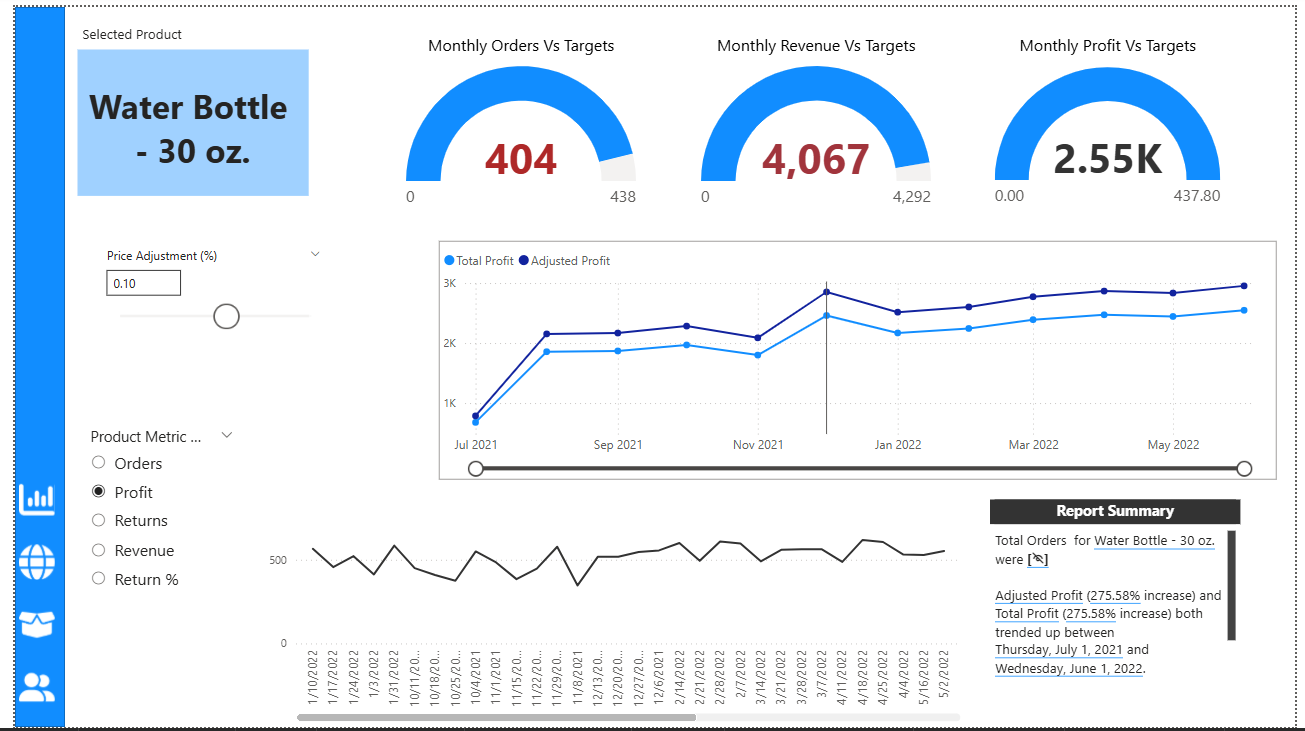

This screenshot's page, from the dashboard's own definition file:
{"tool":"powerbi","page":{"name":"Product Detail","canvas":[1280,720],"ordinal":3},"visuals":[{"type":"shape","box":[0,0,50,720],"z":0},{"type":"actionButton","box":[0,461.2,43.8,62.5],"z":0,"group":"g1"},{"type":"gauge","title":"Monthly Orders Vs Targets","fields":{"Y":["Measure Table.Total Orders"],"MaxValue":["Measure Table.Order Target"]},"box":[386.7,26.7,240,191.1],"z":1000},{"type":"actionButton","box":[0,523.7,43.8,62.5],"z":1000,"group":"g1"},{"type":"gauge","title":"Monthly Revenue Vs Targets","fields":{"Y":["Measure Table.Total Revenue"],"MaxValue":["Measure Table.Revenue Target"]},"box":[681.1,26.7,240,191.1],"z":2000},{"type":"actionButton","box":[0,586.2,43.8,62.5],"z":2000,"group":"g1"},{"type":"gauge","title":"Monthly Profit Vs Targets","fields":{"Y":["Measure Table.Total Profit"],"MaxValue":["Measure Table.Profit Target"]},"box":[975.6,26.7,235.6,191.1],"z":3000},{"type":"actionButton","box":[0,648.7,43.8,62.5],"z":3000,"group":"g1"},{"type":"lineChart","title":"Profit Trending ","fields":{"Category":["Calendar Lookup.Date","Calendar Lookup.Year","Calendar Lookup.Start of Month","Calendar Lookup.Start of Week"],"Y":["Measure Table.Total Profit","Measure Table.Adjusted Profit"]},"box":[424.3,233.7,836.6,238.5],"z":4000},{"type":"areaChart","title":"Returns Trending ","fields":{"Y":["Measure Table.Total Profit"],"Category":["Calendar Lookup.Date","Calendar Lookup.Year","Calendar Lookup.Start of Week","Calendar Lookup.Start of Month"]},"box":[249.3,489.3,701.9,230.9],"z":5000},{"type":"card","fields":{"Values":["Min(Product Lookup.ProductName)"]},"box":[62.2,42.2,231.1,146.7],"z":6000},{"type":"textbox","box":[62.2,12.2,160,30],"z":7000},{"type":"group","id":"g1","title":"Navigation buttons ","box":[0,461.2,43.8,250],"z":8000},{"type":"slicer","fields":{"Values":["Price Adjustment (%).Price Adjustment (%)"]},"box":[79.3,235.5,238.9,124.1],"z":9000},{"type":"slicer","fields":{"Values":["Product Metric Selection.Product Metric Selection"]},"box":[62,413.5,167.7,204.5],"z":10000},{"type":"textbox","title":"Report Summary","box":[975.2,492.8,250.4,202.2],"z":11000}]}

Visuals, with their boxes on the page's 1280x720 design canvas (x1, y1, x2, y2). These are canvas units, not pixel positions in the 1305x731 screenshot, which may show the page scaled, cropped or inside an application window:
shape: <bbox>0, 0, 50, 720</bbox>
actionButton: <bbox>0, 461, 44, 524</bbox>
"Monthly Orders Vs Targets" gauge: <bbox>387, 27, 627, 218</bbox>
actionButton: <bbox>0, 524, 44, 586</bbox>
"Monthly Revenue Vs Targets" gauge: <bbox>681, 27, 921, 218</bbox>
actionButton: <bbox>0, 586, 44, 649</bbox>
"Monthly Profit Vs Targets" gauge: <bbox>976, 27, 1211, 218</bbox>
actionButton: <bbox>0, 649, 44, 711</bbox>
"Profit Trending " lineChart: <bbox>424, 234, 1261, 472</bbox>
"Returns Trending " areaChart: <bbox>249, 489, 951, 720</bbox>
card - Min(Product Lookup.ProductName): <bbox>62, 42, 293, 189</bbox>
textbox: <bbox>62, 12, 222, 42</bbox>
"Navigation buttons " group: <bbox>0, 461, 44, 711</bbox>
slicer - Price Adjustment (%).Price Adjustment (%): <bbox>79, 236, 318, 360</bbox>
slicer - Product Metric Selection.Product Metric Selection: <bbox>62, 414, 230, 618</bbox>
"Report Summary" textbox: <bbox>975, 493, 1226, 695</bbox>
